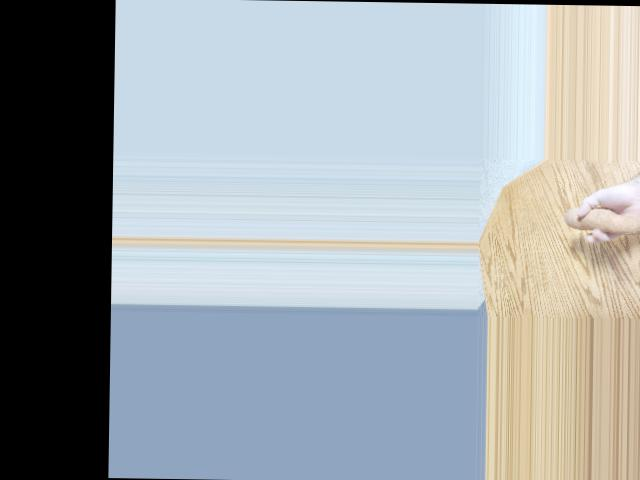sweet_potato: (570, 205, 640, 237)
